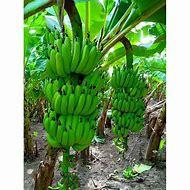banana: (37, 28, 102, 155), (42, 89, 98, 150), (42, 31, 90, 83), (108, 65, 143, 133), (103, 99, 149, 141), (104, 67, 146, 100)
